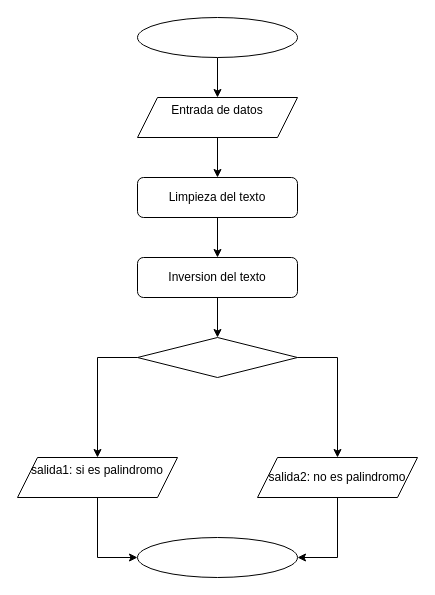
Some shapes in this 435 by 595 pixel diagram are drawn without their labels. Here are the shapes that lost their labels. From the top down, the centre of each, then its label:
point 217,37: Inicio
point 217,357: Tomar decision
point 217,557: Fin
